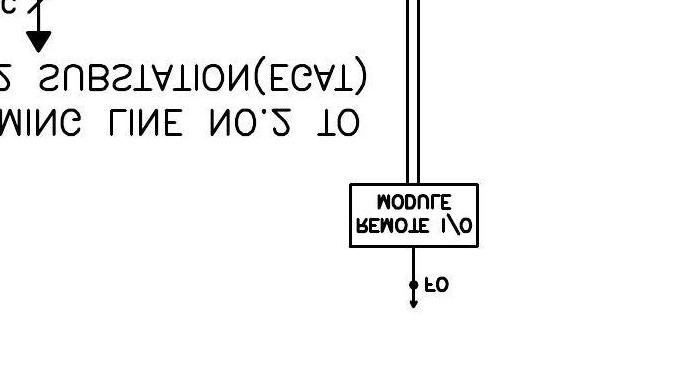remote_io_module: (348, 183, 479, 248)
